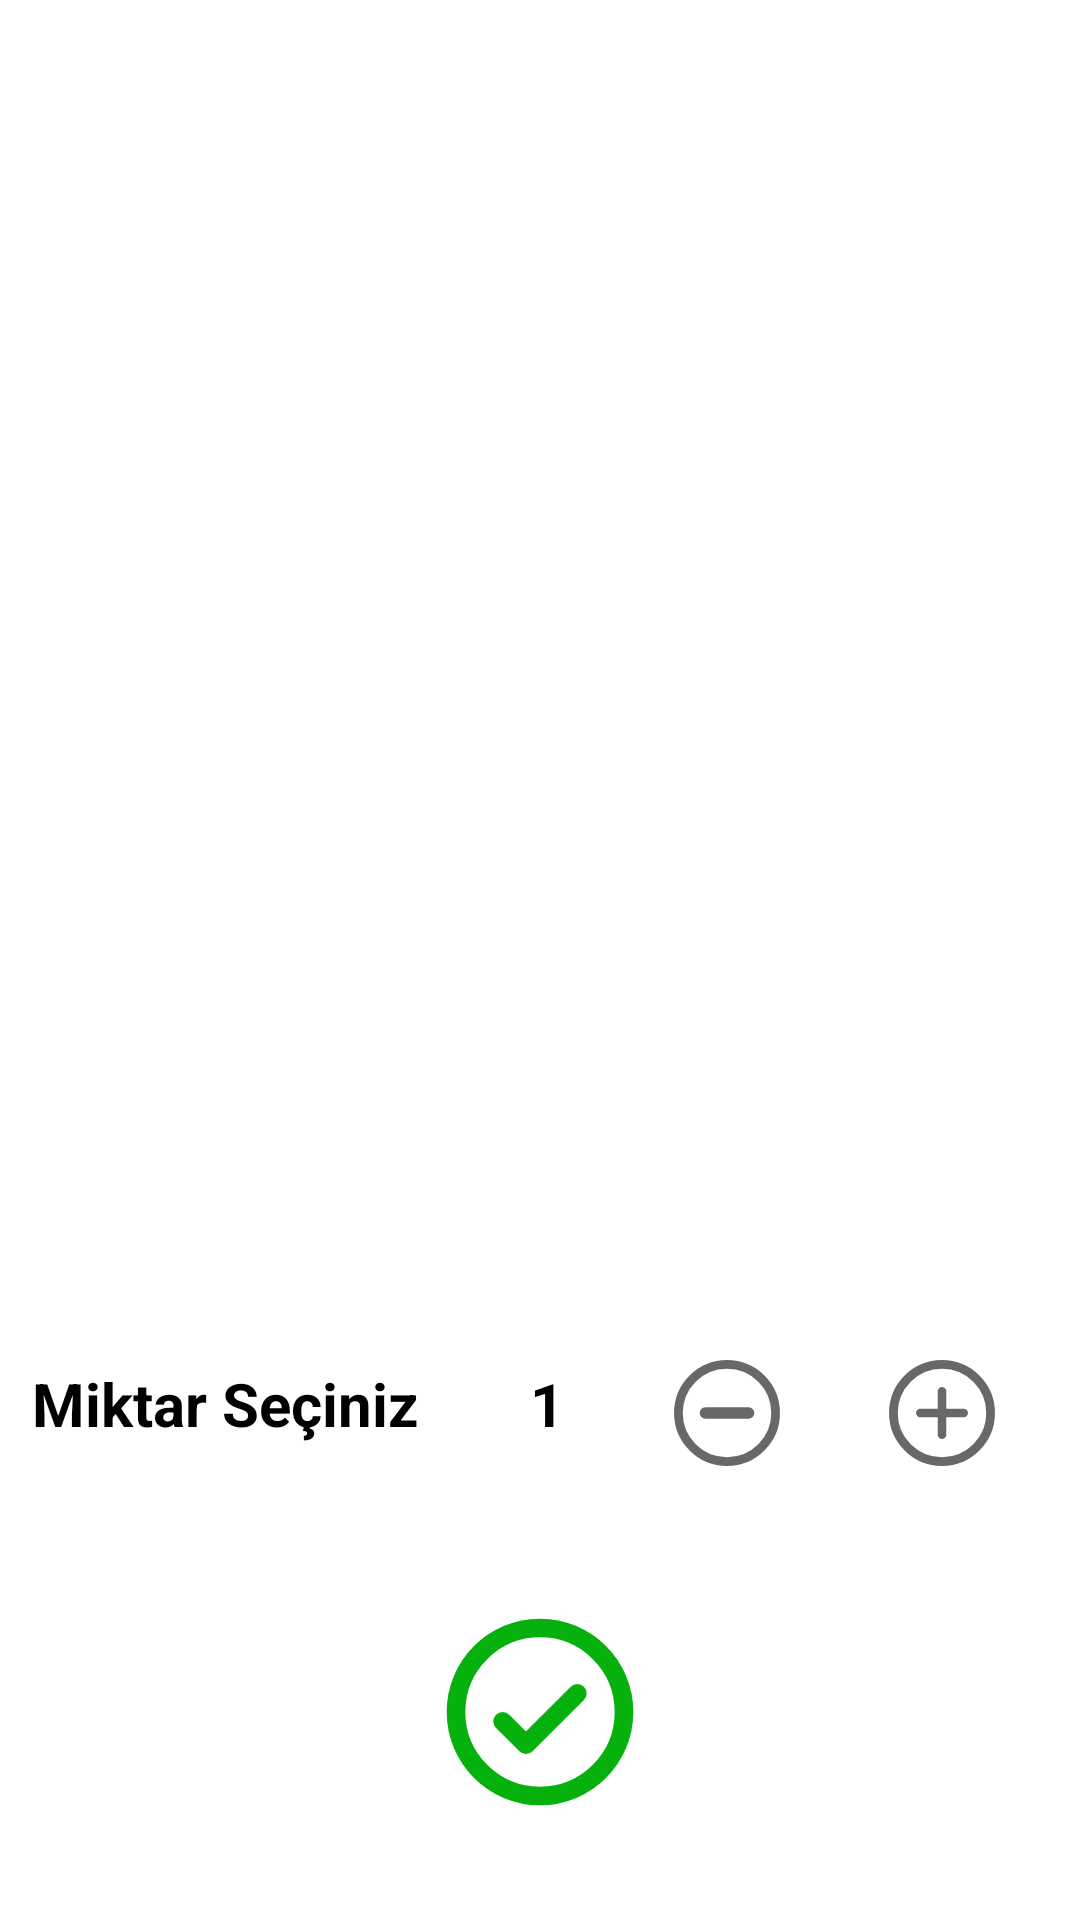

Where icons sit on this 1080w x 1920h app screen, as [x1=x1, y1=y1, x2=x2, y2=y2]:
accept: [x1=446, y1=1618, x2=634, y2=1806]
minusicon: [x1=674, y1=1360, x2=780, y2=1466]
plusicon: [x1=889, y1=1360, x2=995, y2=1466]
